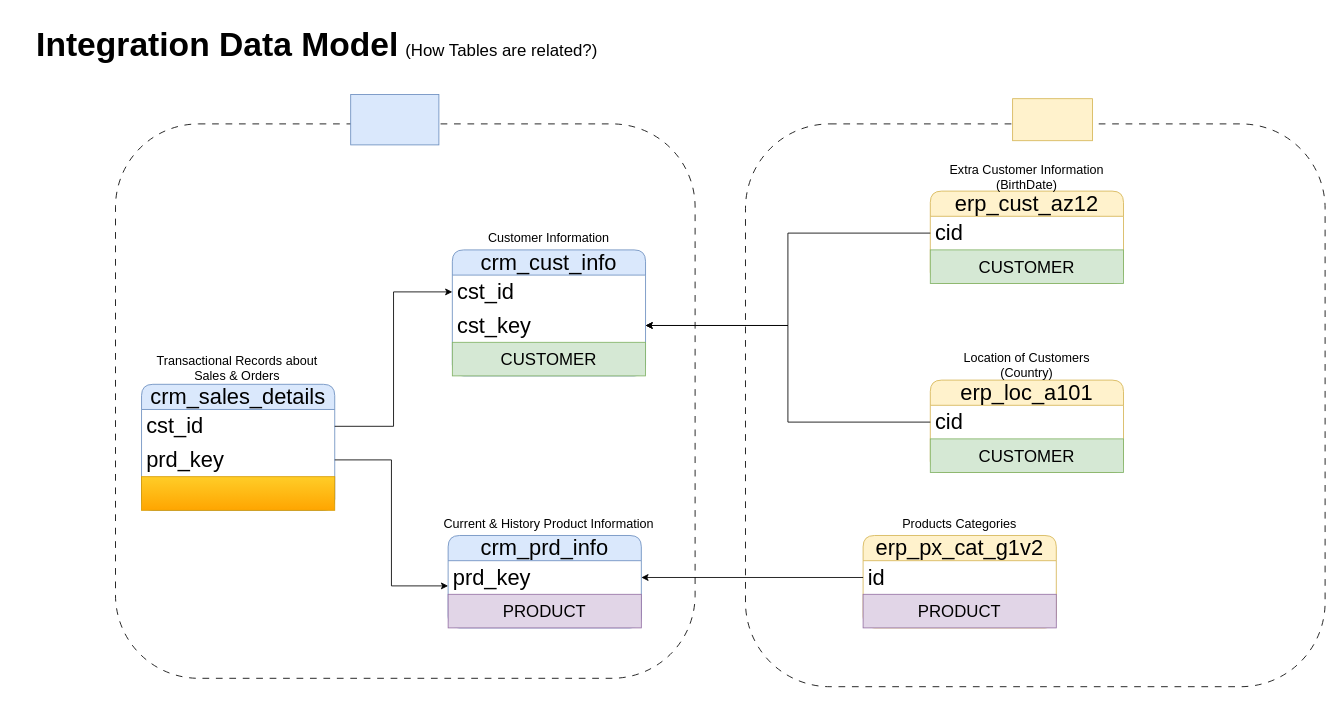
This 1340x701 diagram has some shape labels left out. Here are the shapes that lost their labels. From the top down, the centre of each, then its label:
the point at 394,119: CRM
the point at 1052,119: ERP
the point at 238,493: SALES
